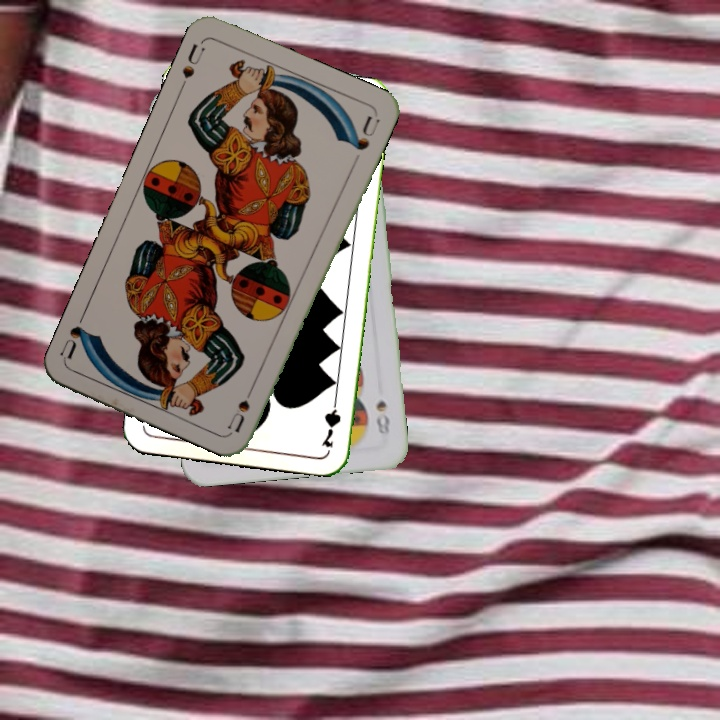G7: (318, 391, 344, 450)
S8: (372, 396, 392, 439)
SU: (225, 377, 259, 434), (178, 37, 207, 81)
